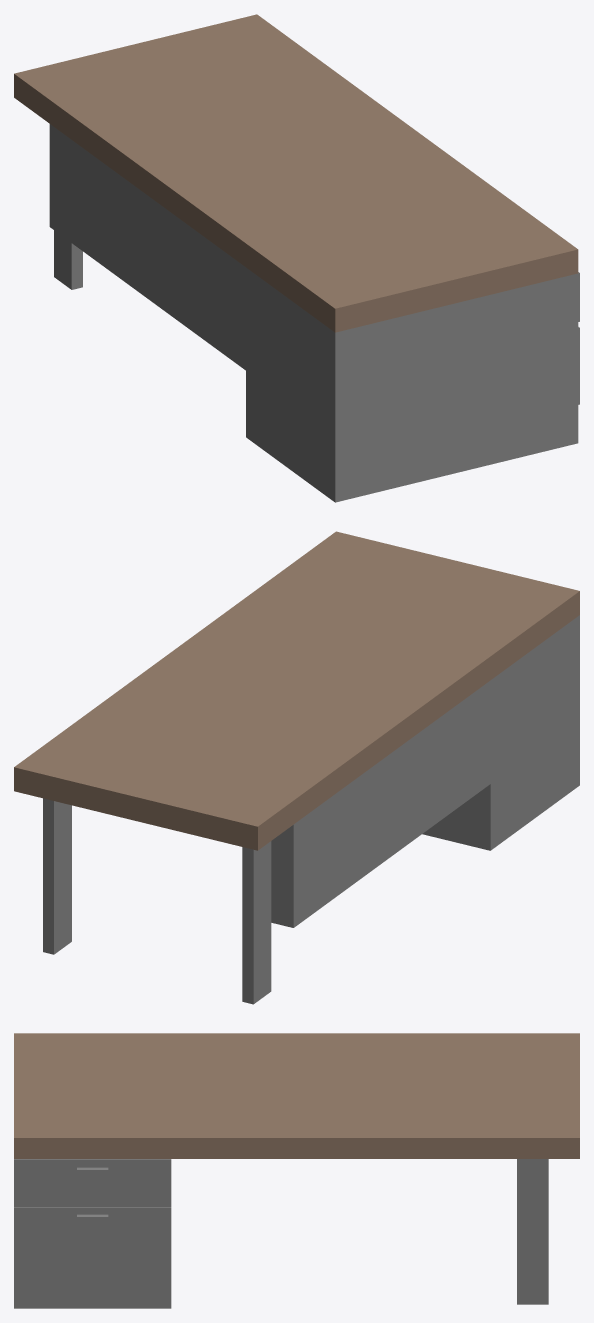
The model's file is Desk.fbx.
3 views of the same model, one above another, from view 1: azimuth 30°, elevation 25°; view 2: azimuth 150°, elevation 25°; view 3: azimuth 270°, elevation 25° (orthographic). The views are drawn at different scales.
Parts seen in each view (by area): view 1: pCube1; view 2: pCube1; view 3: pCube1.
Boxes of the visible parts, x1,y1,x2,y2 form: pCube1: [14, 14, 579, 502]; pCube1: [14, 531, 579, 1004]; pCube1: [14, 1033, 579, 1308].
Bounding box in the file's own units: 13.99 × 10.44 × 31.07.
